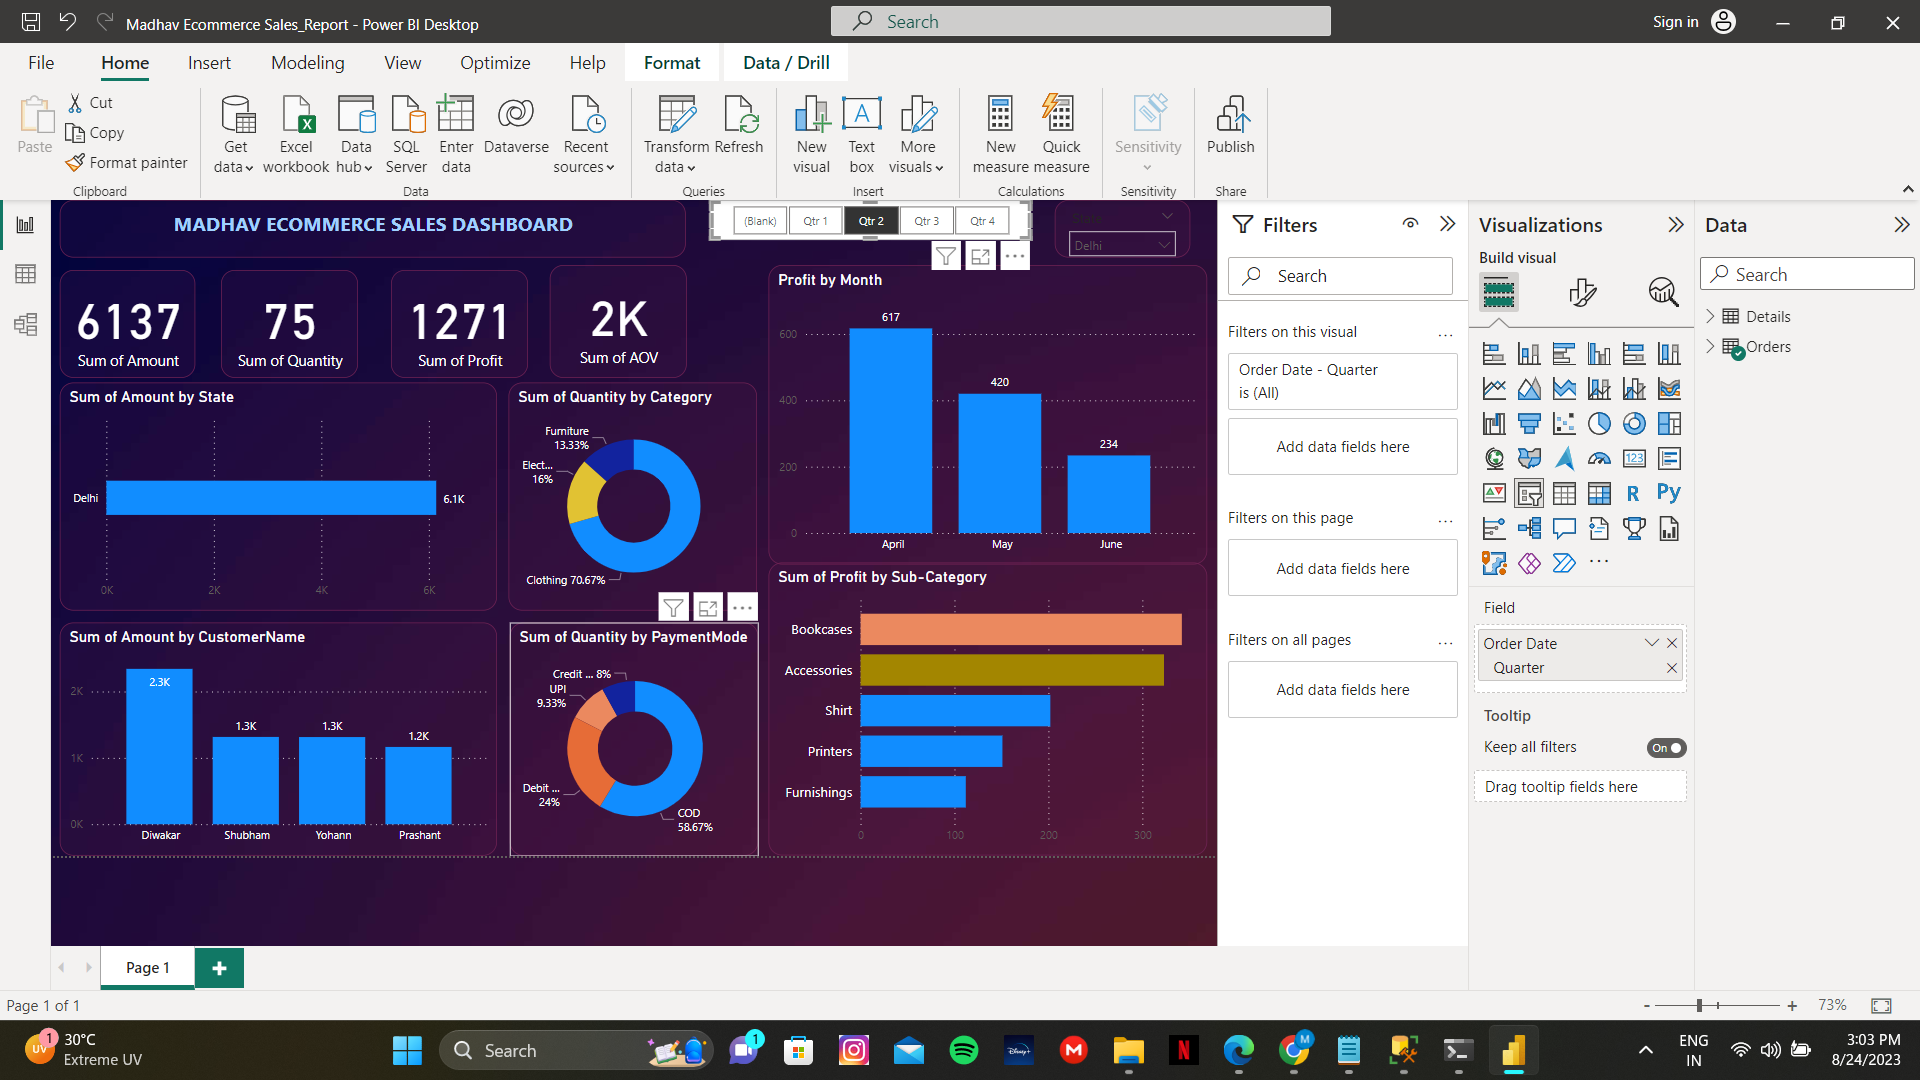

This screenshot's page, from the dashboard's own definition file:
{"tool":"powerbi","page":{"name":"Page 1","canvas":[1280,720],"ordinal":0},"visuals":[{"type":"textbox","box":[10,0,687.1,62.9],"z":0},{"type":"columnChart","title":"Profit by Month","fields":{"Y":["Sum(Details.Profit)"],"Category":["Orders.Order Date.Variation.Date Hierarchy.Month"]},"box":[787.1,71.4,481.4,328.6],"z":1000},{"type":"barChart","fields":{"Category":["Details.Sub-Category"],"Y":["Sum(Details.Profit)"]},"box":[787.1,398.6,481.4,321.4],"z":2000},{"type":"donutChart","fields":{"Category":["Details.Category"],"Y":["Sum(Details.Quantity)"]},"box":[502.9,200,272.9,250],"z":3000},{"type":"donutChart","fields":{"Y":["Sum(Details.Quantity)"],"Category":["Details.PaymentMode"]},"box":[504.3,464.3,272.9,255.7],"z":4000},{"type":"card","fields":{"Values":["Sum(Details.Amount)"]},"box":[10,77.1,148.6,118.6],"z":5000},{"type":"card","fields":{"Values":["Sum(Details.Quantity)"]},"box":[187.1,77.1,150,118.6],"z":6000},{"type":"card","fields":{"Values":["Sum(Details.Profit)"]},"box":[372.9,77.1,150,118.6],"z":7000},{"type":"card","fields":{"Values":["Sum(Details.AOV)"]},"box":[547.1,71.4,150,124.3],"z":8000},{"type":"barChart","fields":{"Category":["Orders.State"],"Y":["Sum(Details.Amount)"]},"box":[10,200,480,250],"z":9000},{"type":"columnChart","fields":{"Category":["Orders.CustomerName"],"Y":["Sum(Details.Amount)"]},"box":[10,464.3,480,255.7],"z":10000},{"type":"slicer","fields":{"Values":["Orders.Order Date.Variation.Date Hierarchy.Quarter"]},"box":[722.9,0,352.9,44.3],"z":11000},{"type":"slicer","fields":{"Values":["Orders.State"]},"box":[1101.4,0,148.6,62.9],"z":11001}]}

Visuals, with their boxes on the page's 1280x720 design canvas (x1, y1, x2, y2). These are canvas units, not pixel positions in the 1920x1080 screenshot, which may show the page scaled, cropped or inside an application window:
textbox: box(10, 0, 697, 63)
"Profit by Month" columnChart: box(787, 71, 1268, 400)
barChart - Details.Sub-Category x Sum(Details.Profit): box(787, 399, 1268, 720)
donutChart - Details.Category x Sum(Details.Quantity): box(503, 200, 776, 450)
donutChart - Sum(Details.Quantity) x Details.PaymentMode: box(504, 464, 777, 720)
card - Sum(Details.Amount): box(10, 77, 159, 196)
card - Sum(Details.Quantity): box(187, 77, 337, 196)
card - Sum(Details.Profit): box(373, 77, 523, 196)
card - Sum(Details.AOV): box(547, 71, 697, 196)
barChart - Orders.State x Sum(Details.Amount): box(10, 200, 490, 450)
columnChart - Orders.CustomerName x Sum(Details.Amount): box(10, 464, 490, 720)
slicer - Orders.Order Date.Variation.Date Hierarchy.Quarter: box(723, 0, 1076, 44)
slicer - Orders.State: box(1101, 0, 1250, 63)
